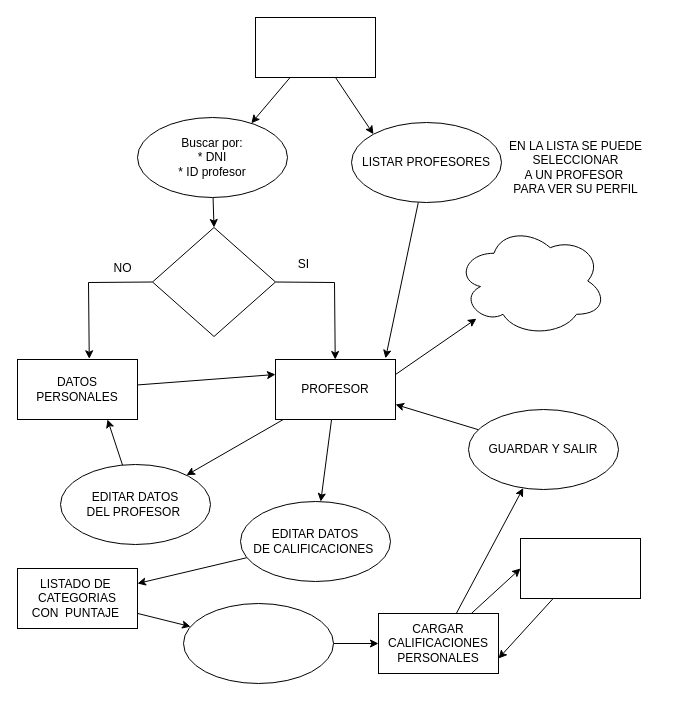
Image size: 673x701. Some labels were removed from this diagram. The shapes that lost their labels are listed below. From the top down, each one's centre as x and y in pixels, then its label:
At (x=315, y=47): "INICIO".
At (x=214, y=281): "EXISTE EL PROFESOR".
At (x=531, y=280): "BORRADO FISICO PROFESOR".
At (x=580, y=568): "CONFIRMAR CONTINUAR".
At (x=258, y=643): "SELECCIONA UNA O MUCHAS CATEGORIAS A MODIFICAR".
